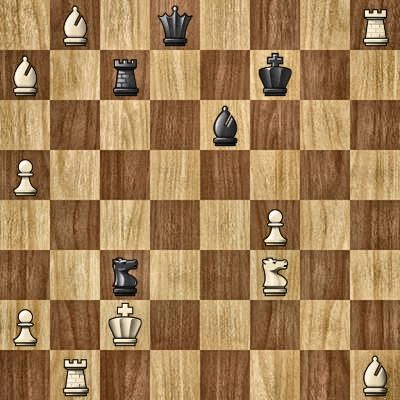black-bishop: (200, 100, 250, 150)
black-king: (250, 50, 300, 100)
black-knight: (100, 250, 150, 300)
black-queen: (150, 0, 200, 50)
black-rook: (100, 50, 150, 100)
white-bishop: (50, 0, 100, 50), (0, 50, 50, 100), (350, 350, 400, 400)
white-king: (100, 300, 150, 350)
white-knight: (250, 250, 300, 300)
white-pawn: (0, 150, 50, 200), (250, 200, 300, 250), (0, 300, 50, 350)
white-rook: (350, 0, 400, 50), (50, 350, 100, 400)
